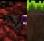altar: (18, 15, 27, 35)
crimstone: (0, 0, 27, 15)
